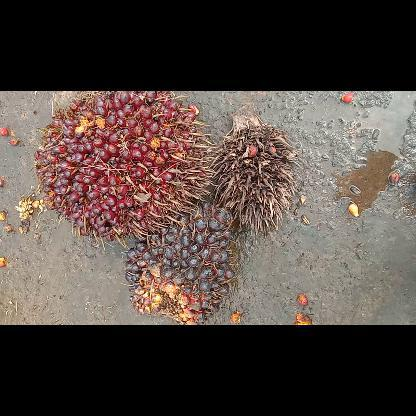Janjang kosong: (212, 103, 302, 239)
TBS masak: (32, 90, 216, 248)
TBS mentah: (122, 202, 238, 324)
